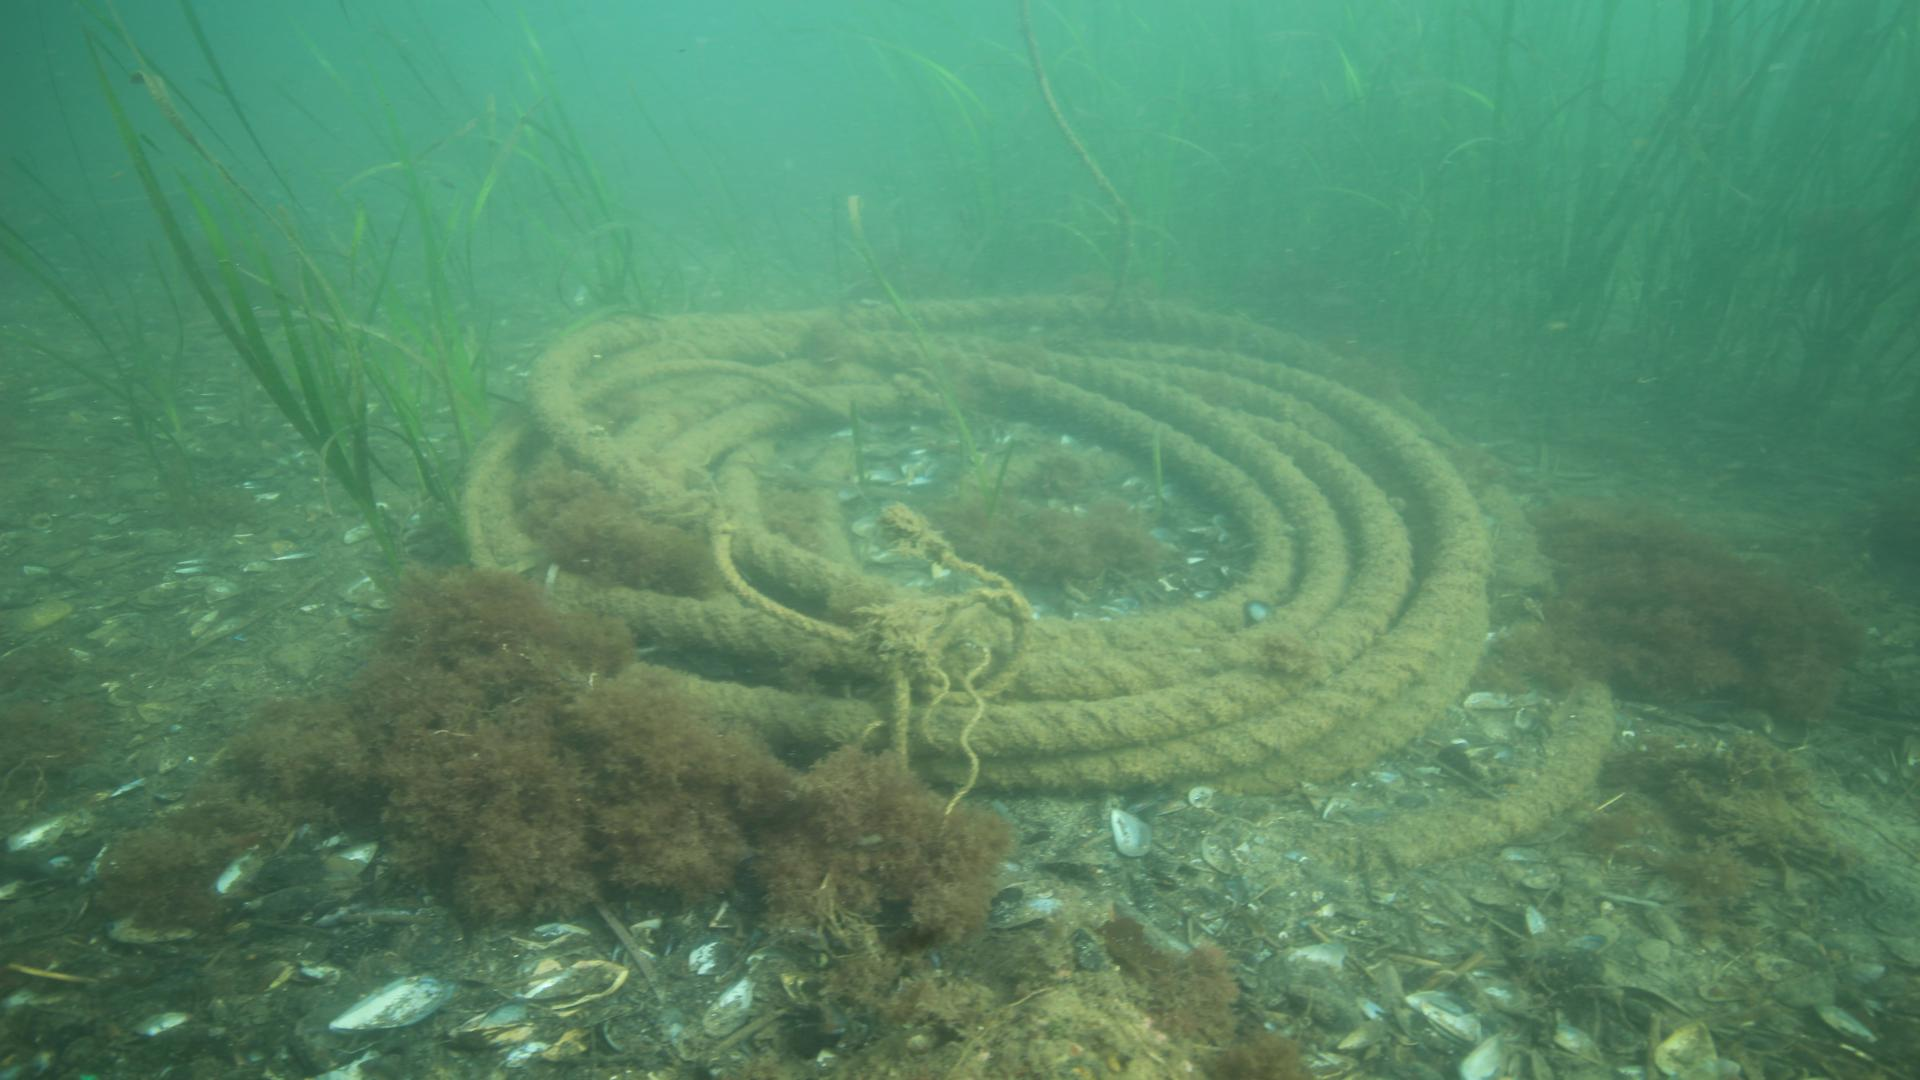bundle of ropes: (462, 294, 1615, 869)
